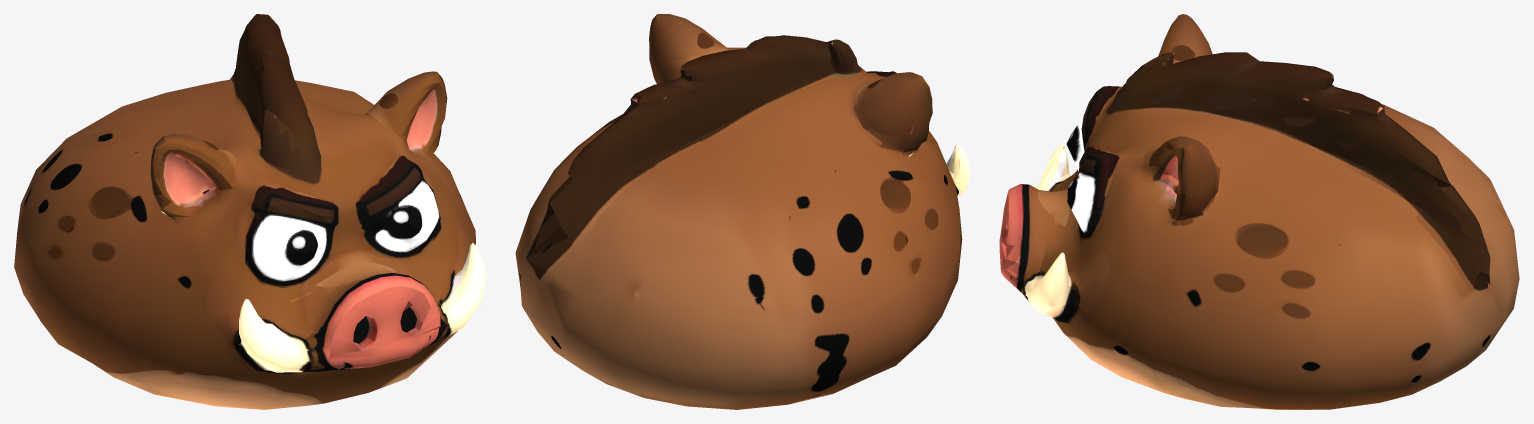
The model's file is boar.glb.
The picture shows the model from 3 angles, left to right: view 1: azimuth 30°, elevation 25°; view 2: azimuth 150°, elevation 25°; view 3: azimuth 270°, elevation 25°; orthographic projection. The views are drawn at different scales.
Visible parts, largest first — view 1: Mesh0; view 2: Mesh0; view 3: Mesh0.
Boxes of the visible parts, x1=… form: Mesh0: x1=14, y1=14, x2=486, y2=409; Mesh0: x1=515, y1=14, x2=970, y2=409; Mesh0: x1=999, y1=14, x2=1519, y2=409.
Size of the model in its own units: 1.6 by 1.17 by 1.85.
1 material, 1 textured.
